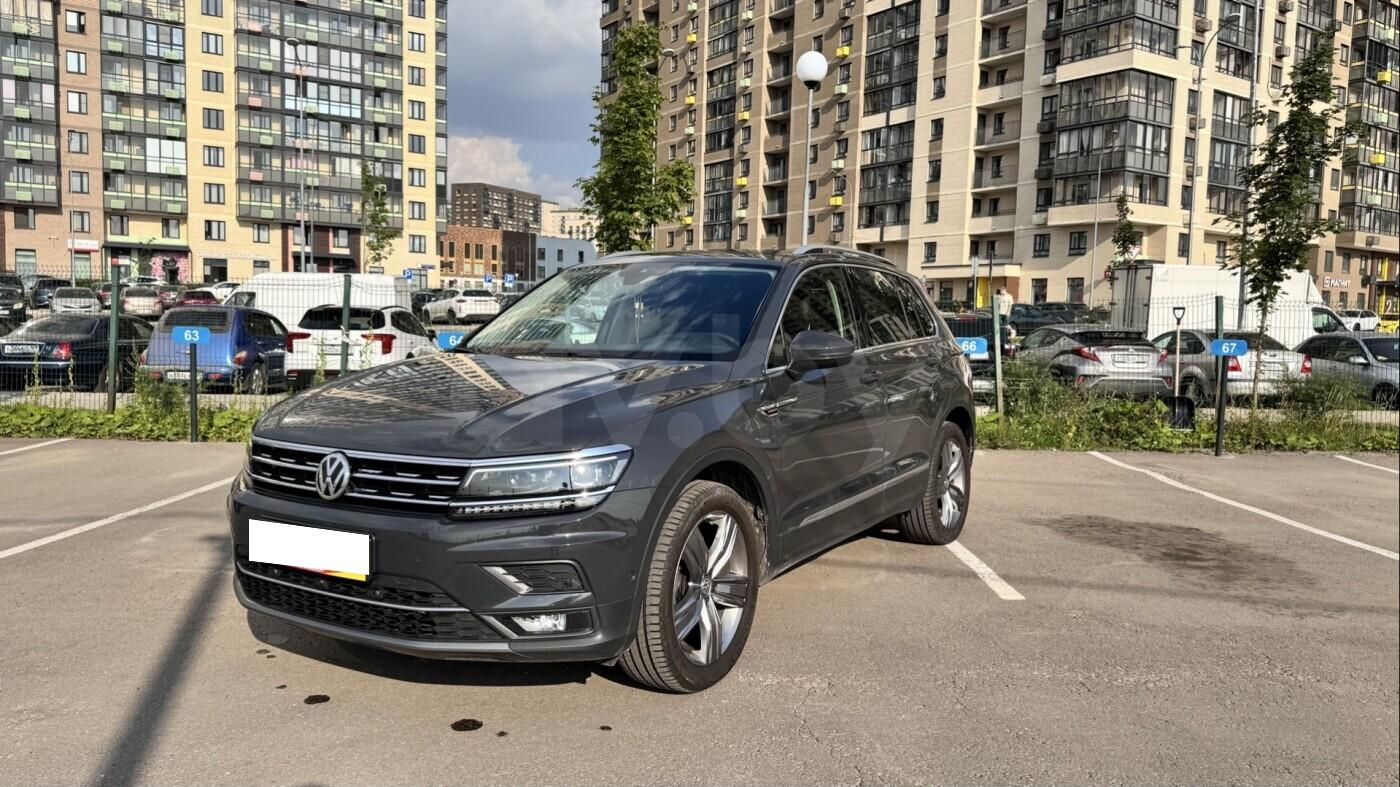Tiguan_2016-2021: (225, 245, 981, 697)
